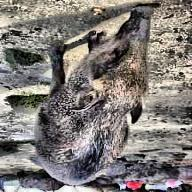boar: (26, 6, 165, 180)
